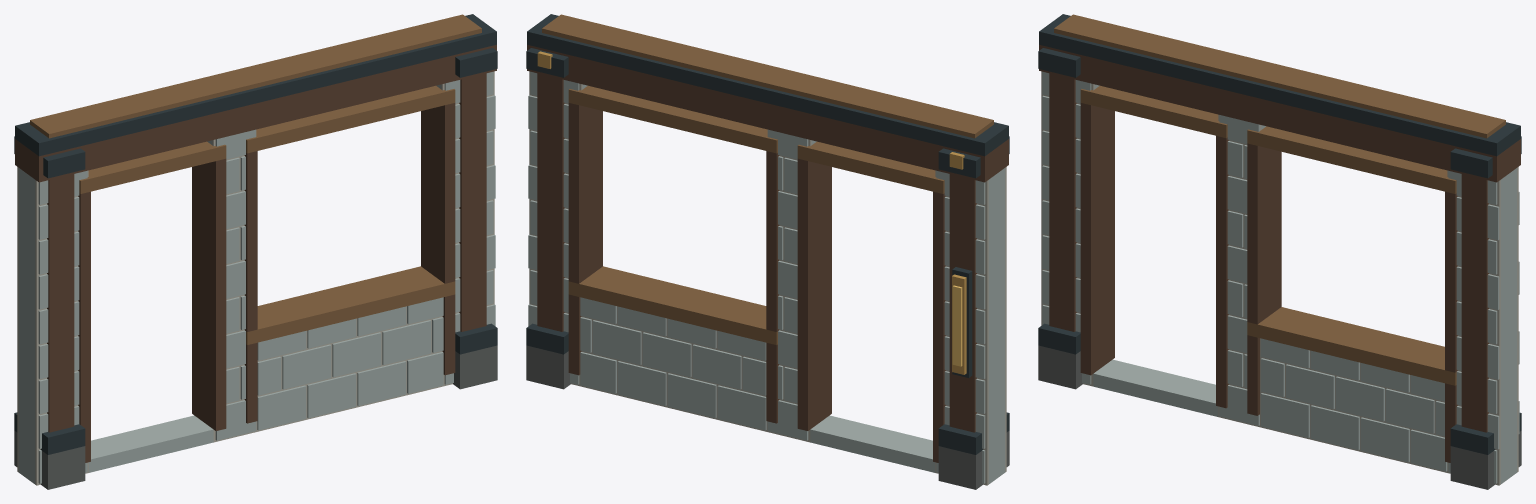
The picture shows the model from 3 angles, left to right: view 1: azimuth 30°, elevation 25°; view 2: azimuth 150°, elevation 25°; view 3: azimuth 330°, elevation 25°; orthographic projection.
Visible parts, largest first — view 1: 旧楼分段入口及窗洞墙; view 2: 旧楼分段入口及窗洞墙; view 3: 旧楼分段入口及窗洞墙.
Part boxes in pixels (x1,y1,x2,y2): 旧楼分段入口及窗洞墙: [14, 14, 497, 489]; 旧楼分段入口及窗洞墙: [526, 14, 1009, 489]; 旧楼分段入口及窗洞墙: [1038, 14, 1521, 489].
Bounding box in the file's own units: 4.4 × 3.2 × 0.6.
Materials: 8 (8 with a texture image).
